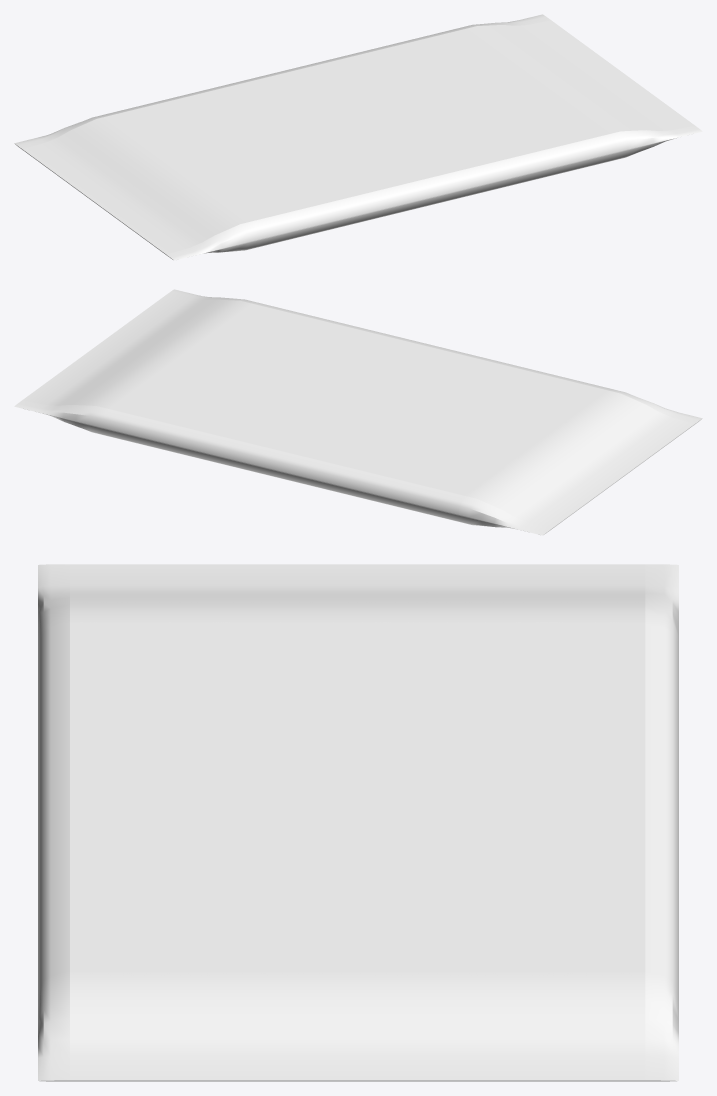
The model's file is cardpack2.glb.
3 views of the same model, one above another, from view 1: azimuth 30°, elevation 25°; view 2: azimuth 150°, elevation 25°; view 3: azimuth 270°, elevation 25° (orthographic). The views are drawn at different scales.
Visible parts, largest first — view 1: Cube.002; view 2: Cube.002; view 3: Cube.002.
Part boxes in pixels (x1,y1,x2,y2): Cube.002: (14, 14, 702, 260); Cube.002: (14, 289, 702, 535); Cube.002: (38, 564, 678, 1081).
Bounding box in the file's own units: 2.51 × 0.1136 × 1.32.
1 material, 1 textured.
